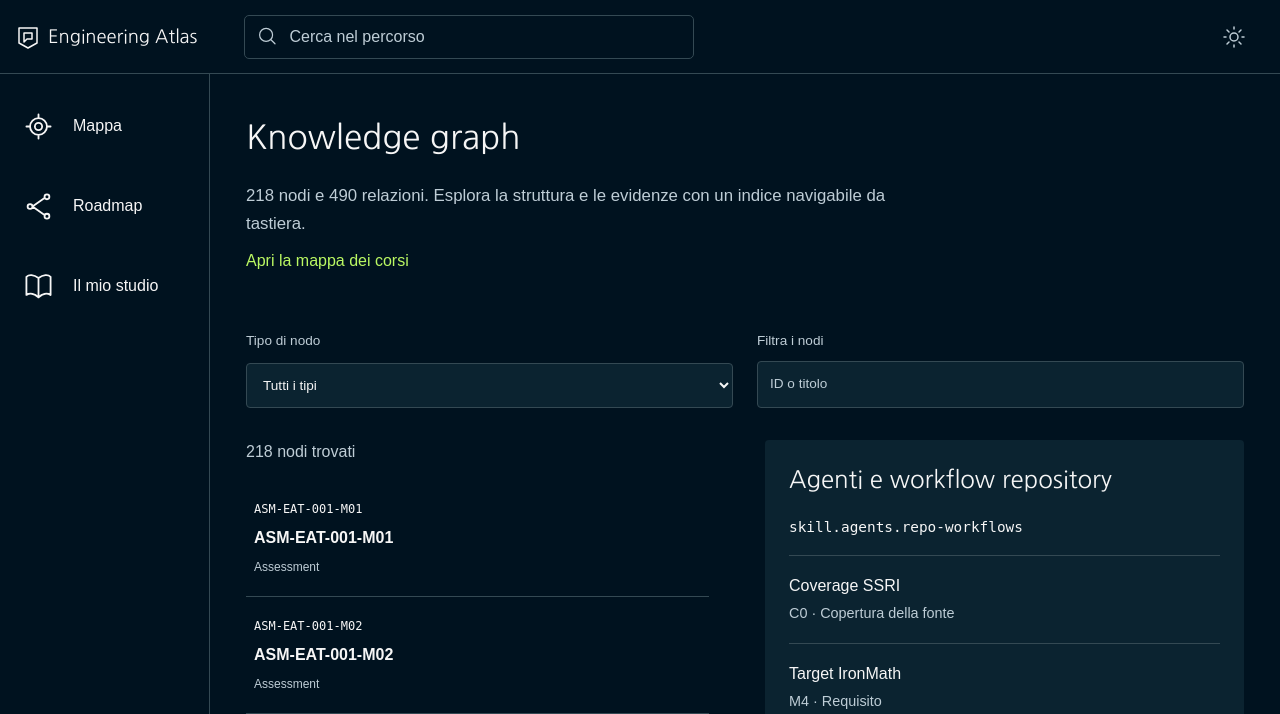
Atlas study journeys › explores all graph node types and canonical relations
The width and height of the screenshot is (1280, 714).
Expected: the text "218 nodi e 490 relazioni." is shown, [246,182,899,239]
Expected: the heading "Agenti e workflow repository" is shown, [789,467,1112,491]
Step 1. Type "non-esiste" into the search field labelled "Filtra i nodi" → [1000, 385], box [757,361,1244,408]
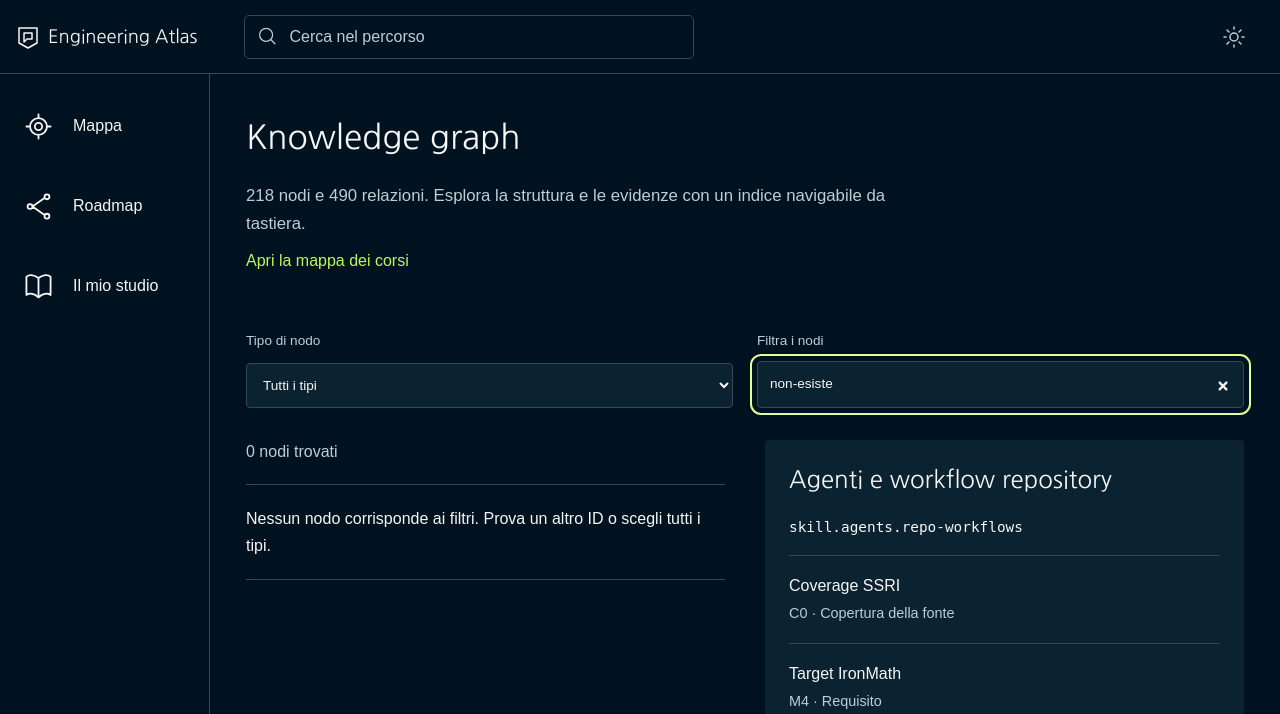
Expected: the message shows "0 nodi", [246,443,338,460]
